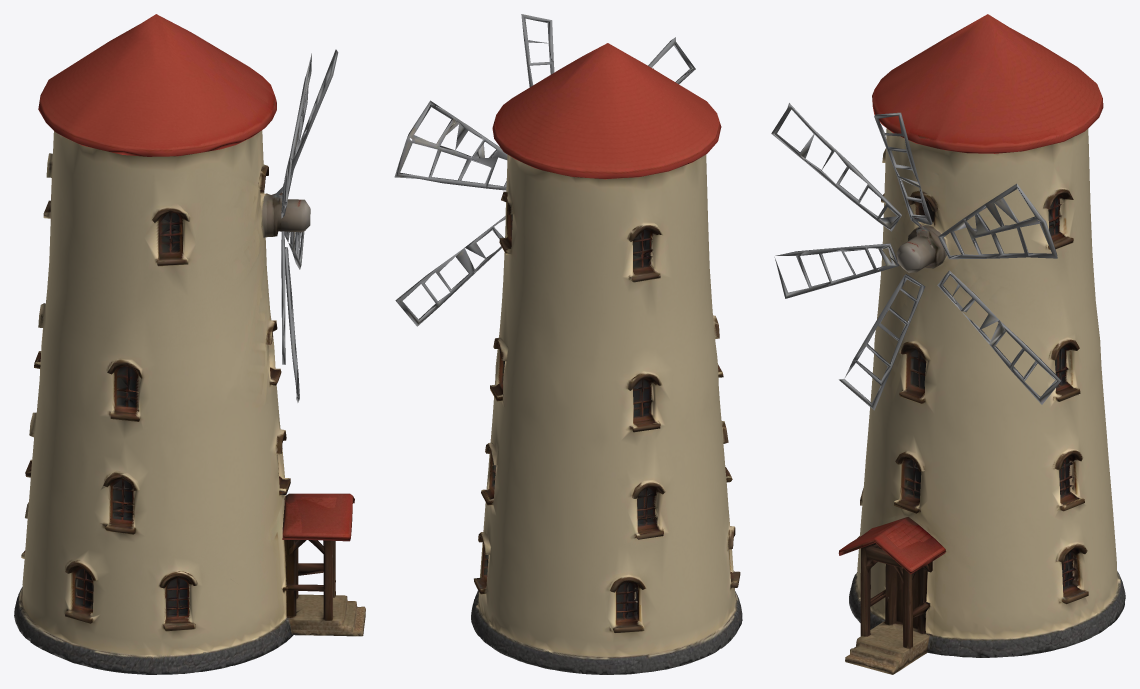
The model's file is windmill.glb.
The picture shows the model from 3 angles, left to right: view 1: azimuth 30°, elevation 25°; view 2: azimuth 150°, elevation 25°; view 3: azimuth 270°, elevation 25°; orthographic projection. The views are drawn at different scales.
Visible parts, largest first — view 1: tripo_node_4997c877-2836-493f-82dc-349e39d59c27; view 2: tripo_node_4997c877-2836-493f-82dc-349e39d59c27; view 3: tripo_node_4997c877-2836-493f-82dc-349e39d59c27.
Part boxes in pixels (x1=…): tripo_node_4997c877-2836-493f-82dc-349e39d59c27: x1=14, y1=14, x2=365, y2=674; tripo_node_4997c877-2836-493f-82dc-349e39d59c27: x1=394, y1=14, x2=742, y2=674; tripo_node_4997c877-2836-493f-82dc-349e39d59c27: x1=771, y1=14, x2=1125, y2=674.
Size of the model in its own units: 1.89 by 3.5 by 1.92.
1 material, 1 textured.
